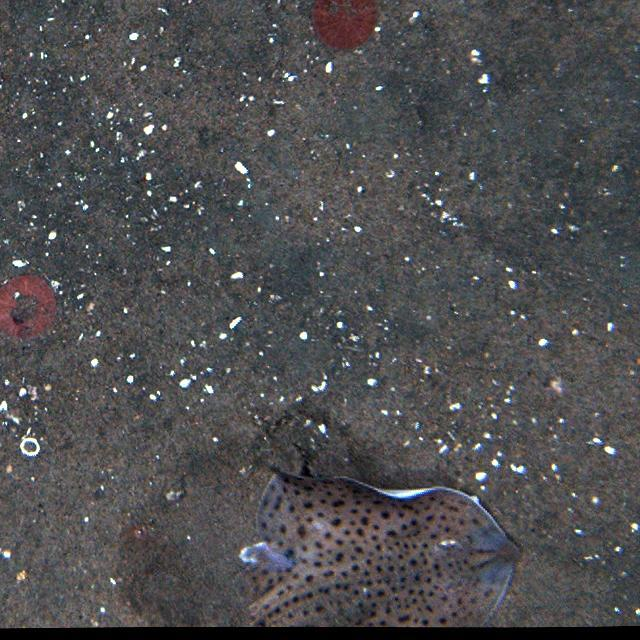skate: (192, 468, 522, 632)
